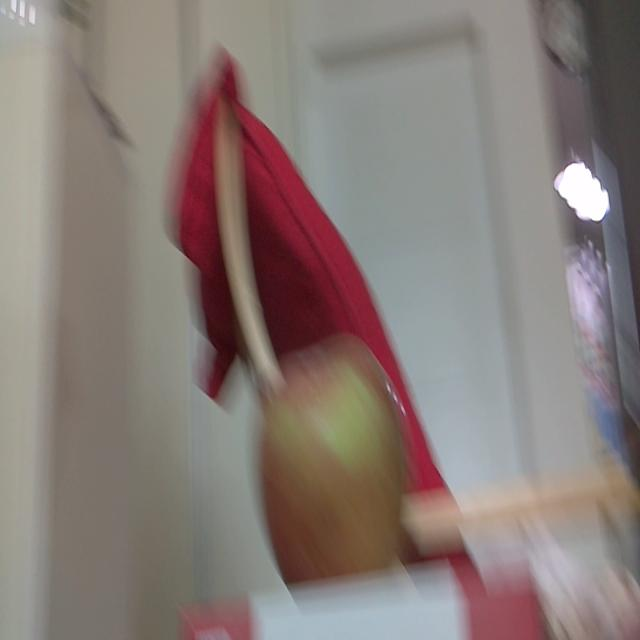apple: (259, 333, 409, 586)
